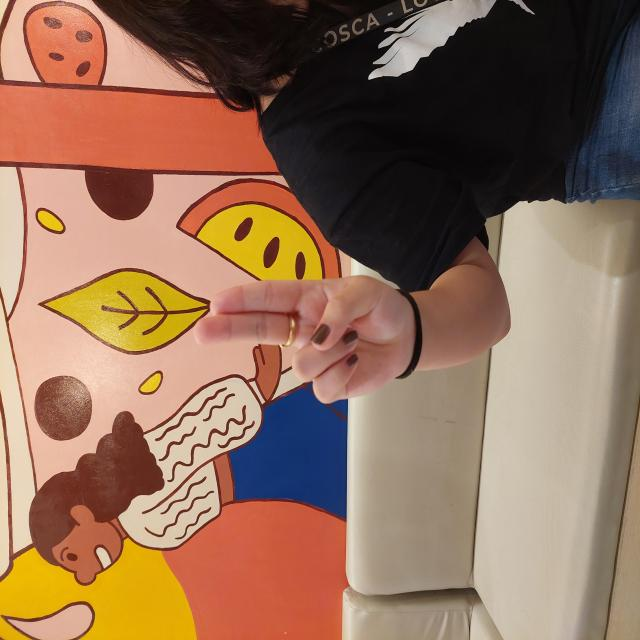U: (234, 191, 366, 415)
